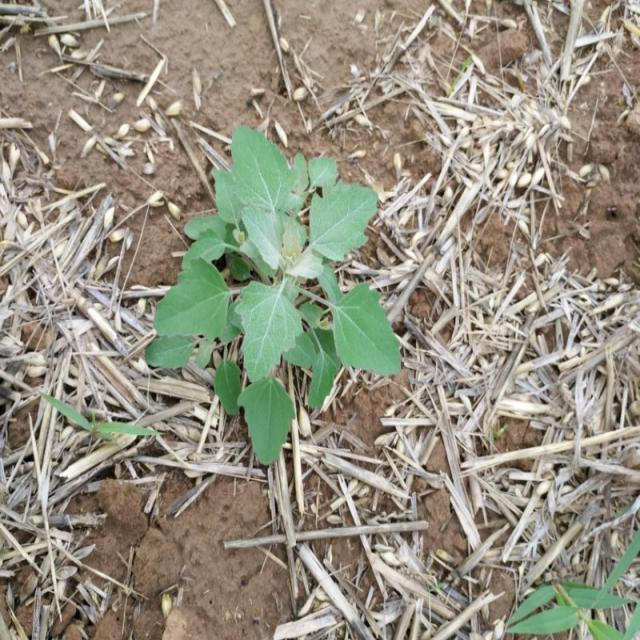goosefoots: (142, 131, 406, 443)
